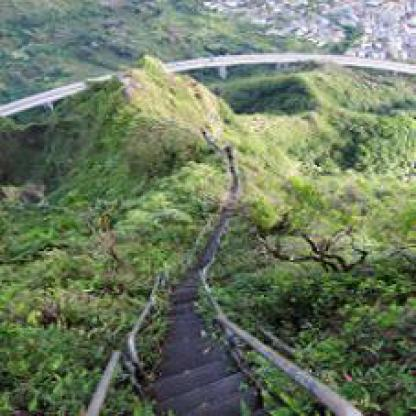stair_down: (134, 326, 264, 409)
